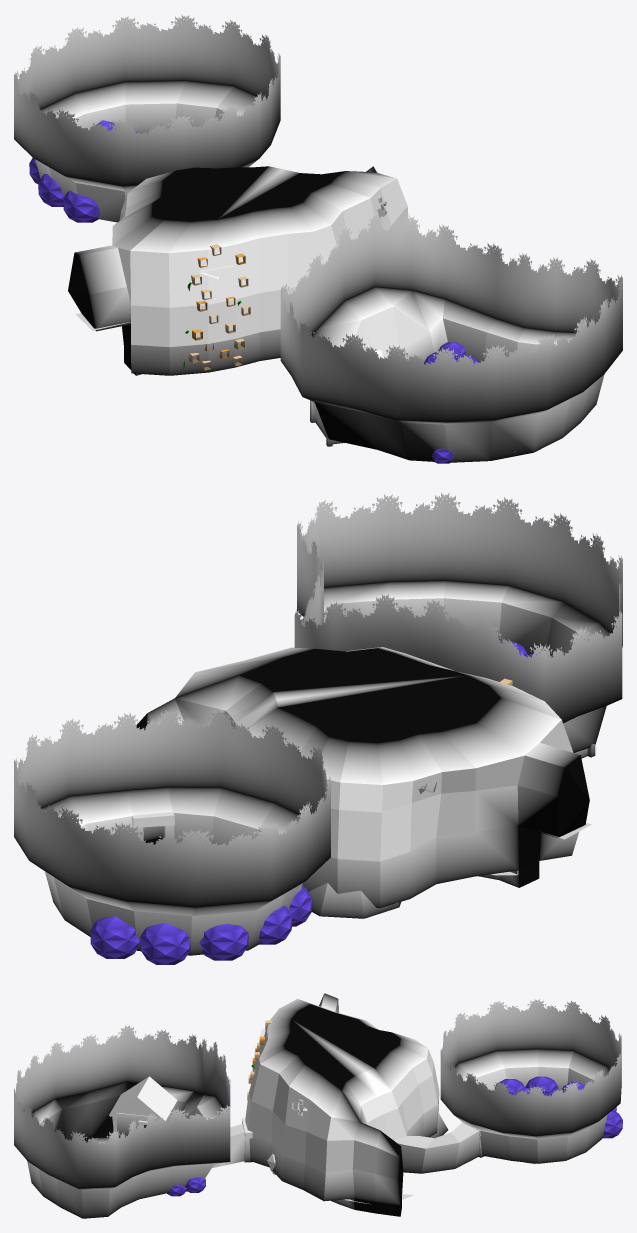
Rendered from fruitigen Islands.fbx.
3 renders of one model, top to bottom at view 1: azimuth 30°, elevation 25°; view 2: azimuth 150°, elevation 25°; view 3: azimuth 270°, elevation 25°, orthographic. The views are drawn at different scales.
Parts seen in each view (by area): view 1: island, bush.012, bush.013; view 2: island, orange.002, bush.015, bush.016, bush.014, bush.013, bush.012; view 3: island, house, bush.016, bush.013.
Part boxes in pixels (x1=…): island: x1=14, y1=14, x2=622, y2=462; bush.012: x1=63, y1=190, x2=100, y2=222; bush.013: x1=38, y1=174, x2=64, y2=206; island: x1=14, y1=492, x2=622, y2=955; orange.002: x1=308, y1=883, x2=400, y2=918; bush.015: x1=140, y1=923, x2=190, y2=964; bush.016: x1=90, y1=916, x2=139, y2=958; bush.014: x1=199, y1=924, x2=248, y2=960; bush.013: x1=259, y1=906, x2=292, y2=944; bush.012: x1=288, y1=886, x2=312, y2=926; island: x1=14, y1=993, x2=621, y2=1218; house: x1=109, y1=1076, x2=177, y2=1138; bush.016: x1=602, y1=1110, x2=622, y2=1138; bush.013: x1=525, y1=1076, x2=558, y2=1095.
Bounding box in the file's own units: 5559 × 2236 × 9825.
